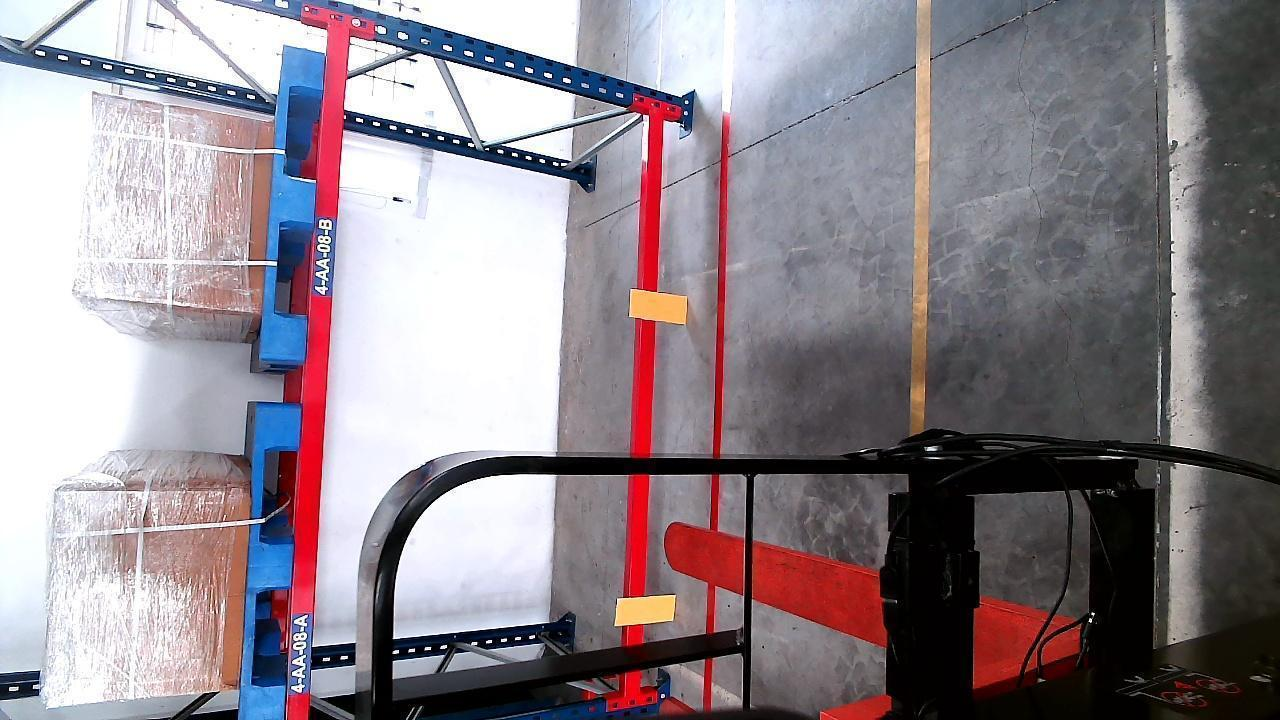red_line: (701, 111, 730, 708)
yellow_line: (909, 0, 935, 433)
